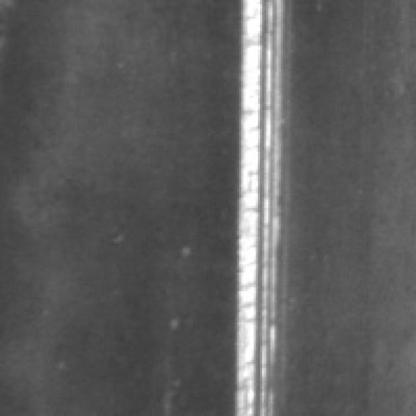scratches: (235, 4, 302, 416)
